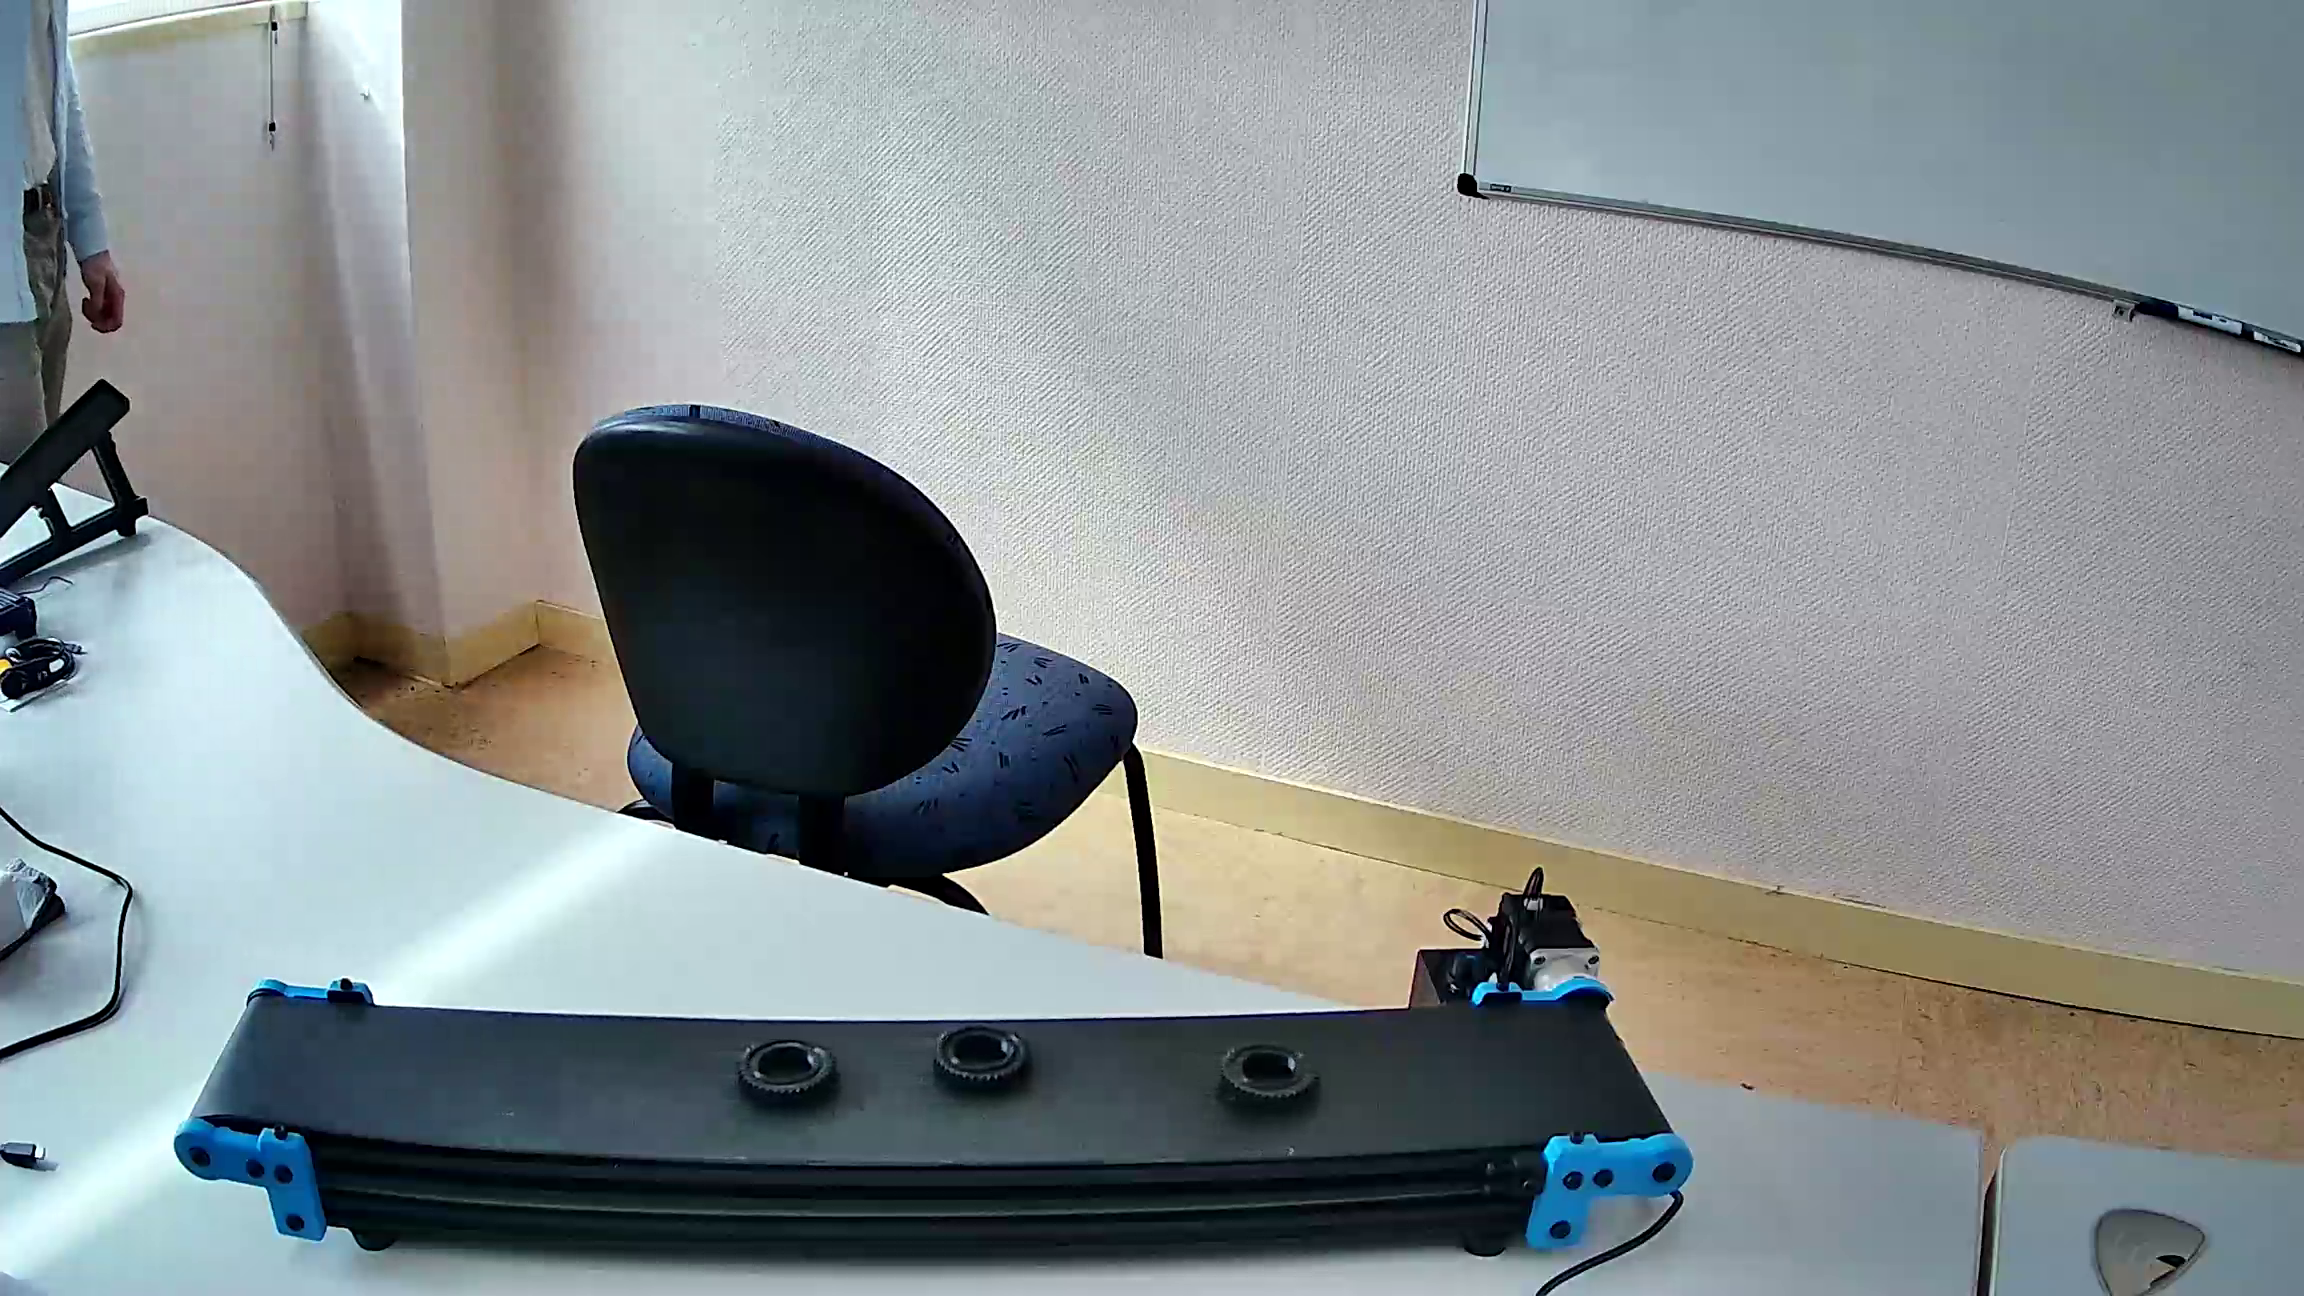good: (934, 1022, 1033, 1090), (1222, 1041, 1321, 1109), (747, 1040, 836, 1108)
